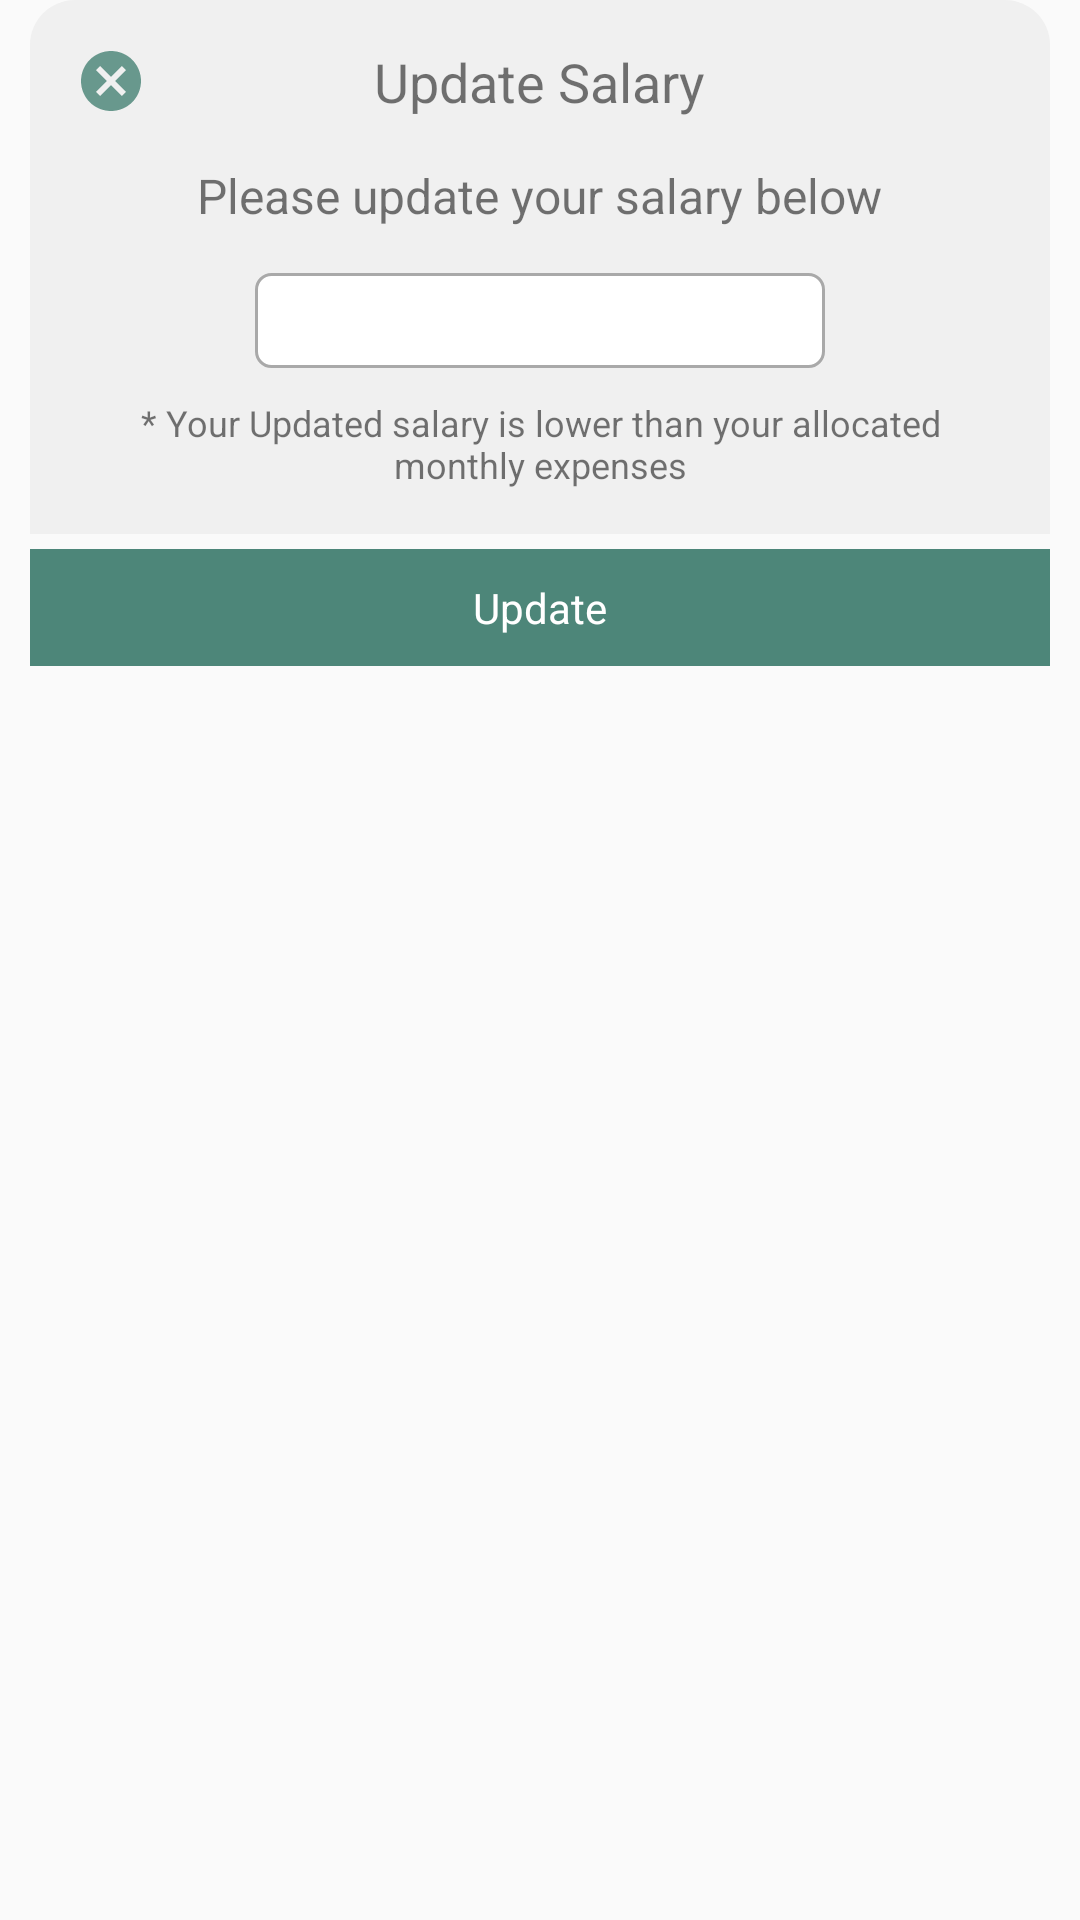

Icons on this 1080px×1920px Android screen, each with its box as BBox(x1, y1, x2, y2):
cancel: BBox(81, 51, 141, 111)
